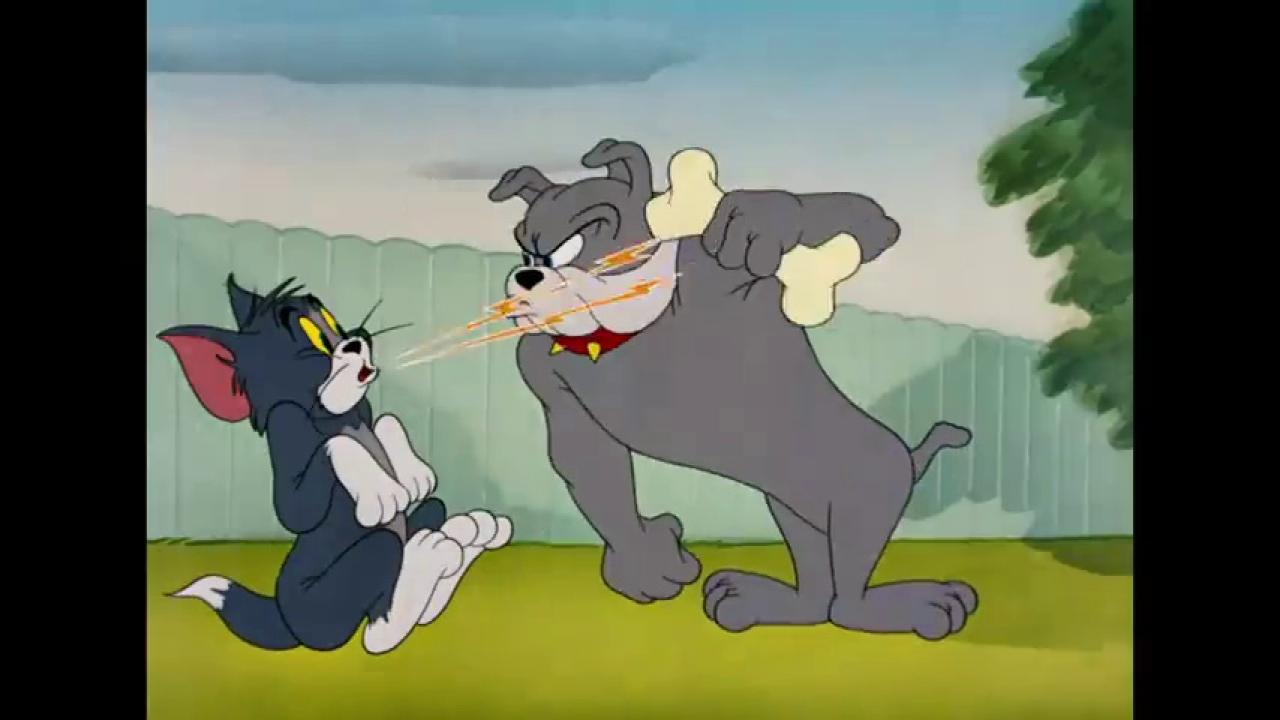Tom: (154, 268, 515, 656)
